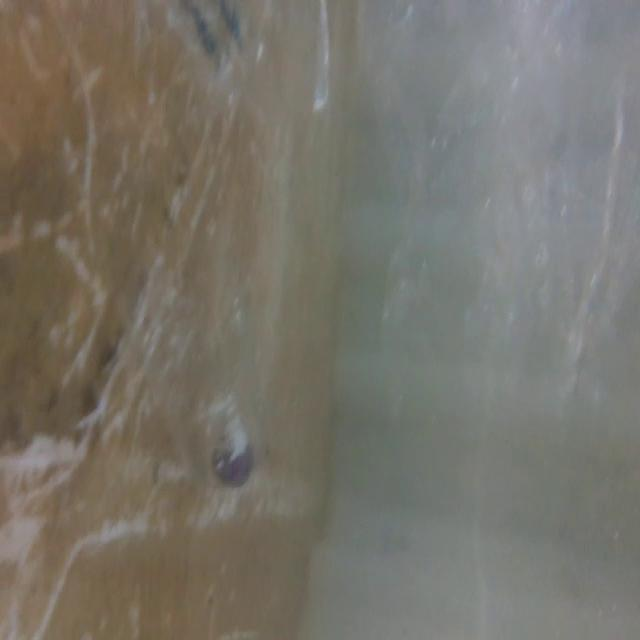plastic bags: (355, 0, 640, 412), (185, 0, 342, 133)
plastic bottle: (101, 157, 275, 514)
